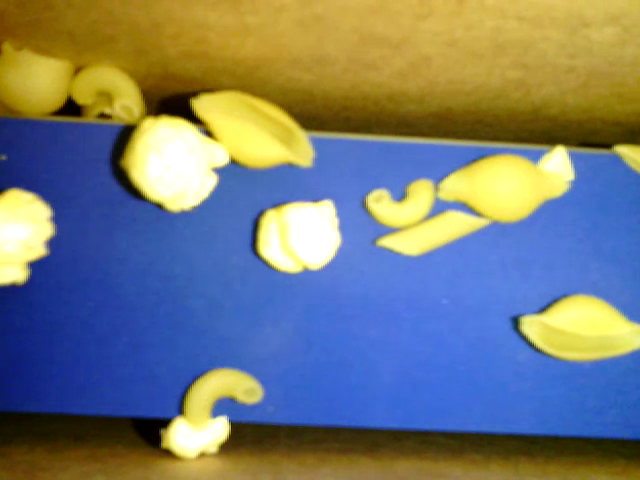elbow: (181, 366, 262, 424), (71, 61, 143, 120), (364, 178, 436, 229)
penne: (372, 206, 492, 258)
shell: (435, 151, 573, 226), (189, 89, 316, 168), (515, 293, 639, 363), (1, 41, 75, 118)
